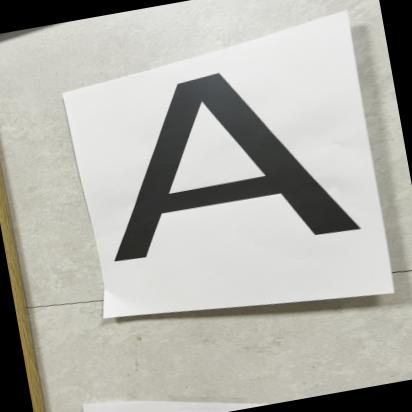seat: (70, 43, 384, 274)
